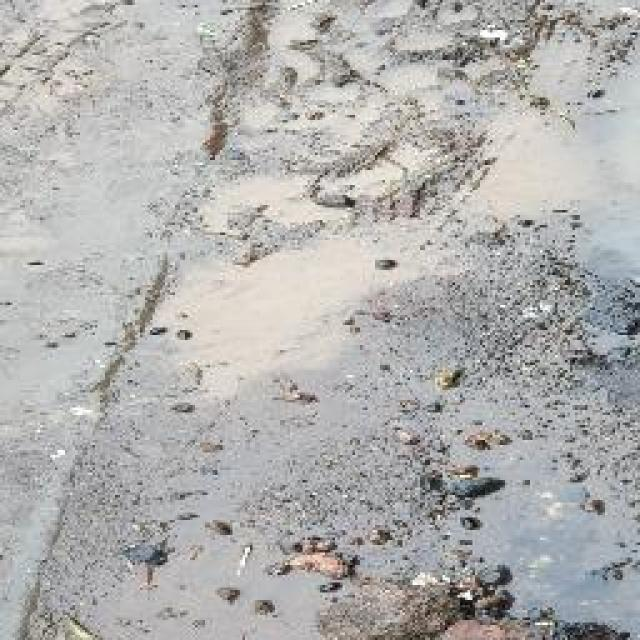waterlogging: (410, 325, 639, 640)
